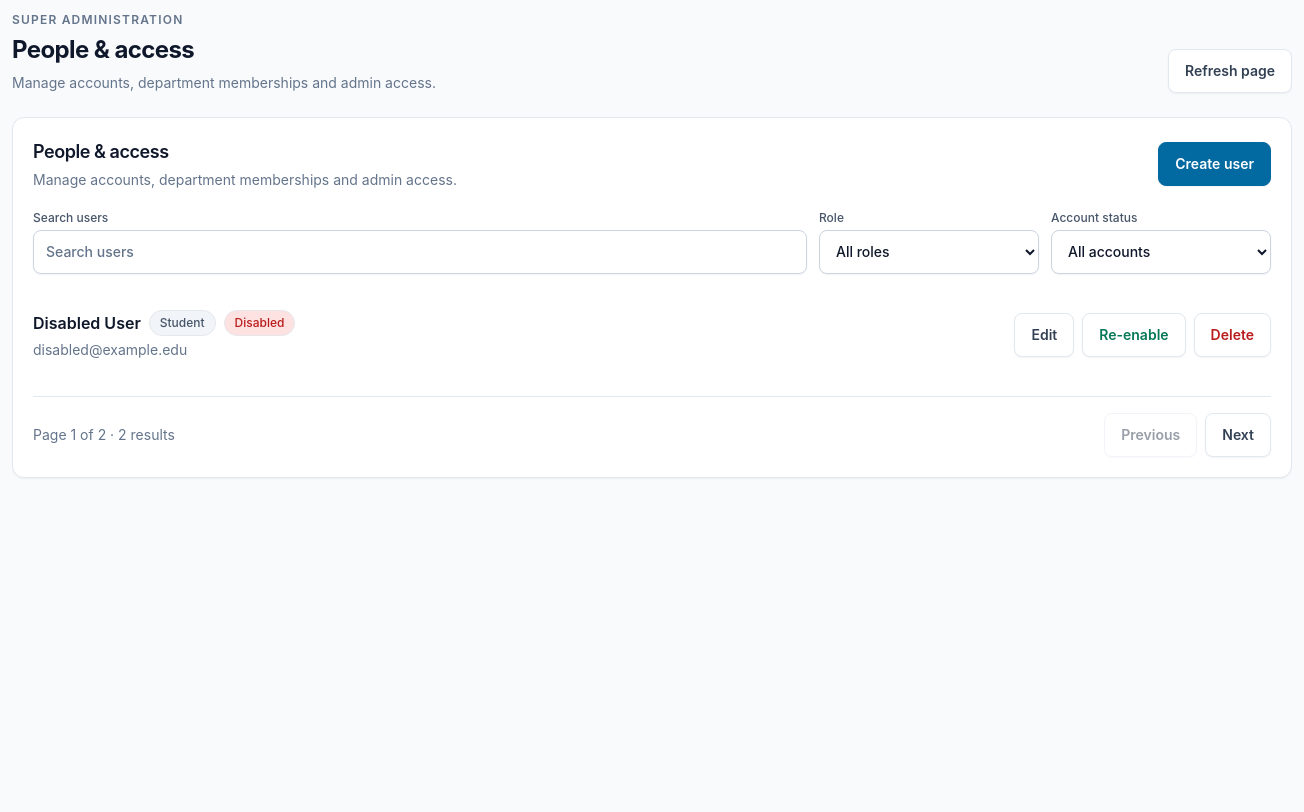
it: Super Admin pages › re-enables an account and explains that a fresh sign-in is required
Click the button with aria-label "Re-enable Disabled User". click: (1134, 335)
box: [1082,313,1186,357]
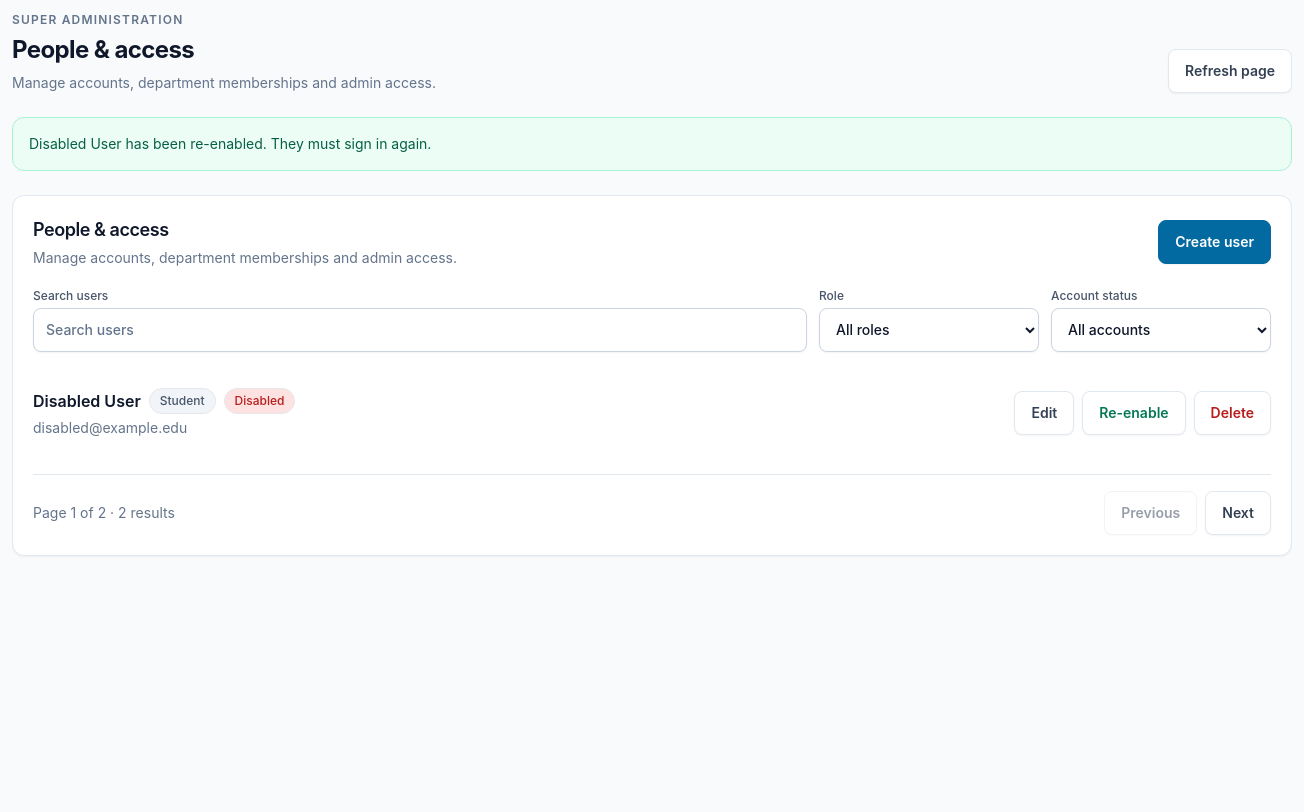
Result: the text "They must sign in again." is shown at [29,135,431,152]
